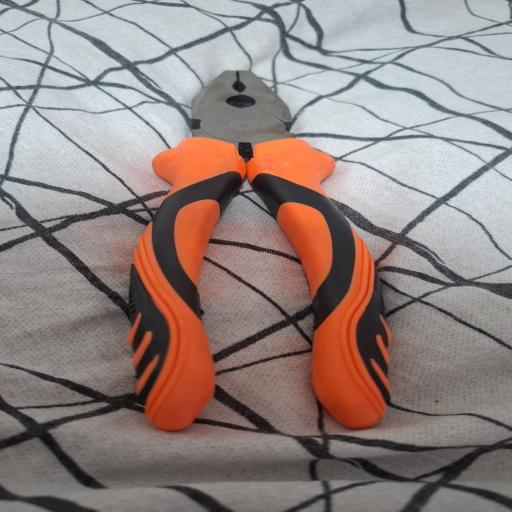alicate: (114, 66, 398, 438)
